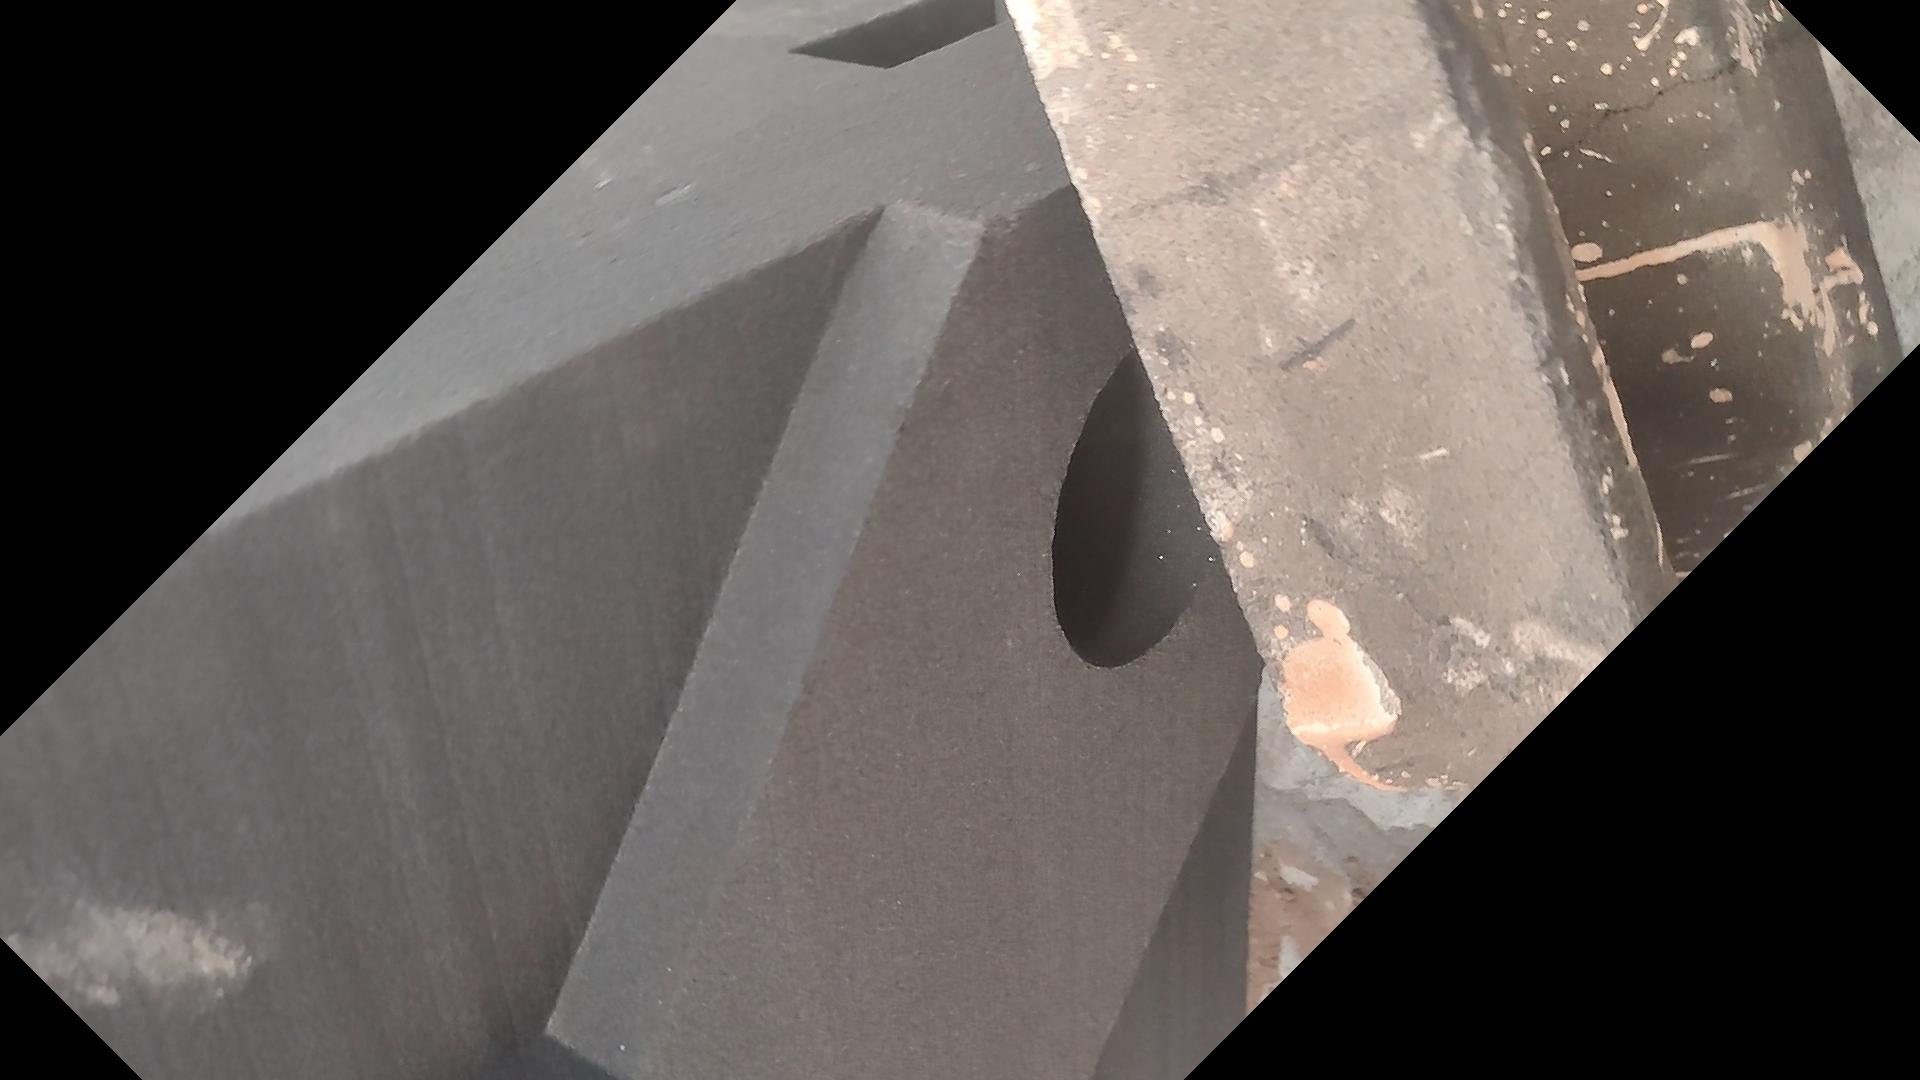pouring hole: (1048, 336, 1218, 669)
